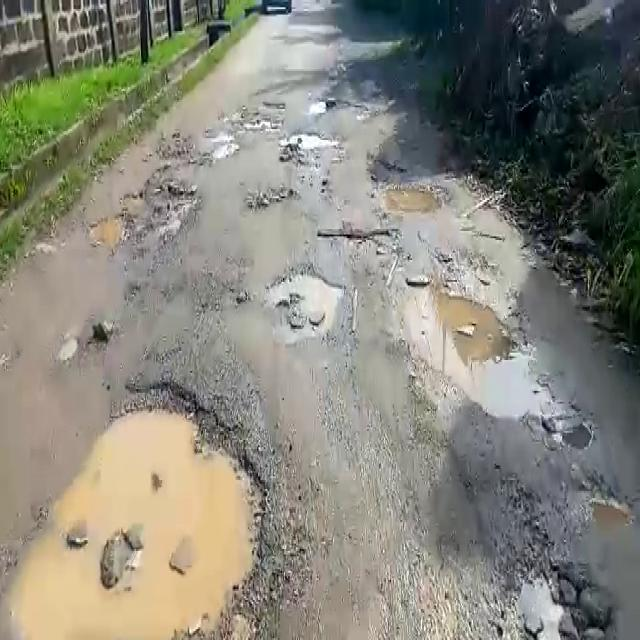Pothole: (30, 374, 278, 638), (396, 274, 561, 432), (484, 558, 621, 640), (89, 172, 201, 256), (269, 268, 343, 336), (373, 175, 446, 218), (320, 223, 398, 250), (278, 129, 336, 157), (243, 186, 301, 213)
